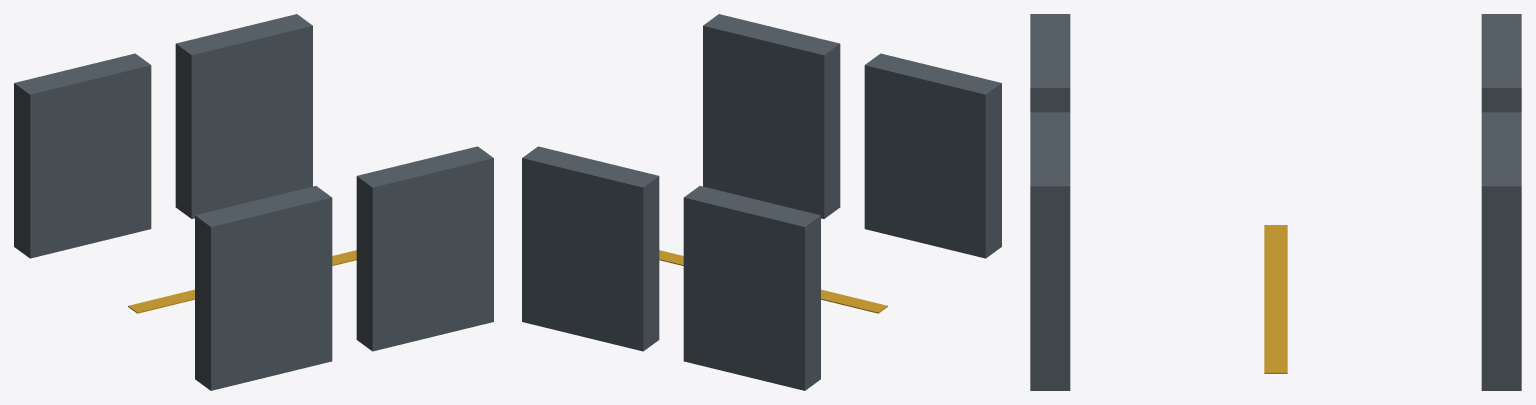
Rendered from module.airlock_double_door.glb.
The picture shows the model from 3 angles, left to right: view 1: azimuth 30°, elevation 25°; view 2: azimuth 150°, elevation 25°; view 3: azimuth 270°, elevation 25°; orthographic projection. The views are drawn at different scales.
Parts seen in each view (by area): view 1: front_gate_r, rear_gate_l, front_gate_l, rear_gate_r, airlock_route; view 2: front_gate_l, rear_gate_r, rear_gate_l, front_gate_r, airlock_route; view 3: front_gate_r, rear_gate_r, front_gate_l, rear_gate_l, airlock_route.
Part boxes in pixels (x1=…): front_gate_r: x1=356, y1=146, x2=493, y2=351; rear_gate_l: x1=14, y1=53, x2=151, y2=258; front_gate_l: x1=195, y1=186, x2=332, y2=390; rear_gate_r: x1=175, y1=14, x2=312, y2=218; airlock_route: x1=128, y1=250, x2=356, y2=313; front_gate_l: x1=864, y1=53, x2=1001, y2=258; rear_gate_r: x1=522, y1=146, x2=659, y2=351; rear_gate_l: x1=683, y1=186, x2=820, y2=390; front_gate_r: x1=703, y1=14, x2=840, y2=218; airlock_route: x1=659, y1=250, x2=887, y2=313; front_gate_r: x1=1030, y1=112, x2=1070, y2=390; rear_gate_r: x1=1481, y1=112, x2=1521, y2=390; front_gate_l: x1=1030, y1=14, x2=1070, y2=112; rear_gate_l: x1=1481, y1=14, x2=1521, y2=112; airlock_route: x1=1264, y1=225, x2=1287, y2=373.
Bounding box in the file's own units: 5.6 × 3.1 × 6.75.
